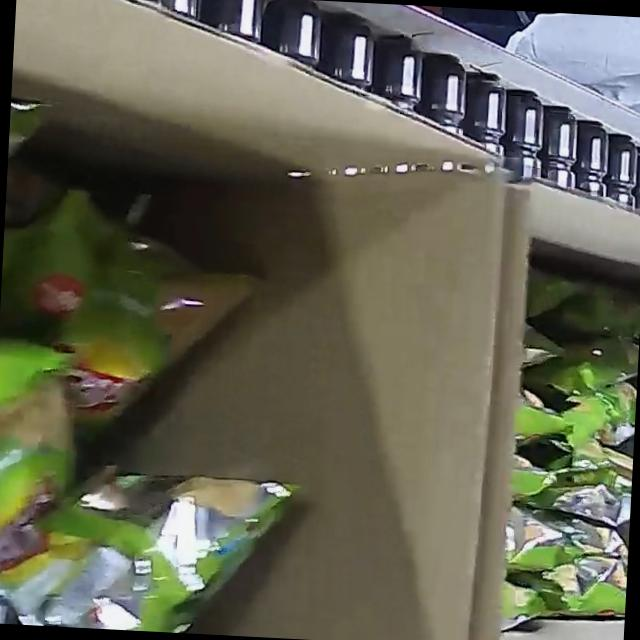yogurt: (0, 96, 319, 638), (484, 281, 640, 640)
